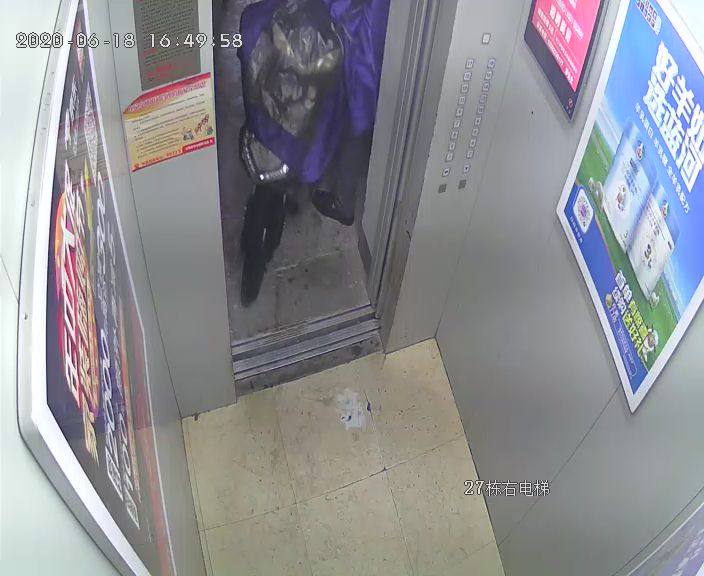Electric-bicycle: (207, 1, 372, 299)
